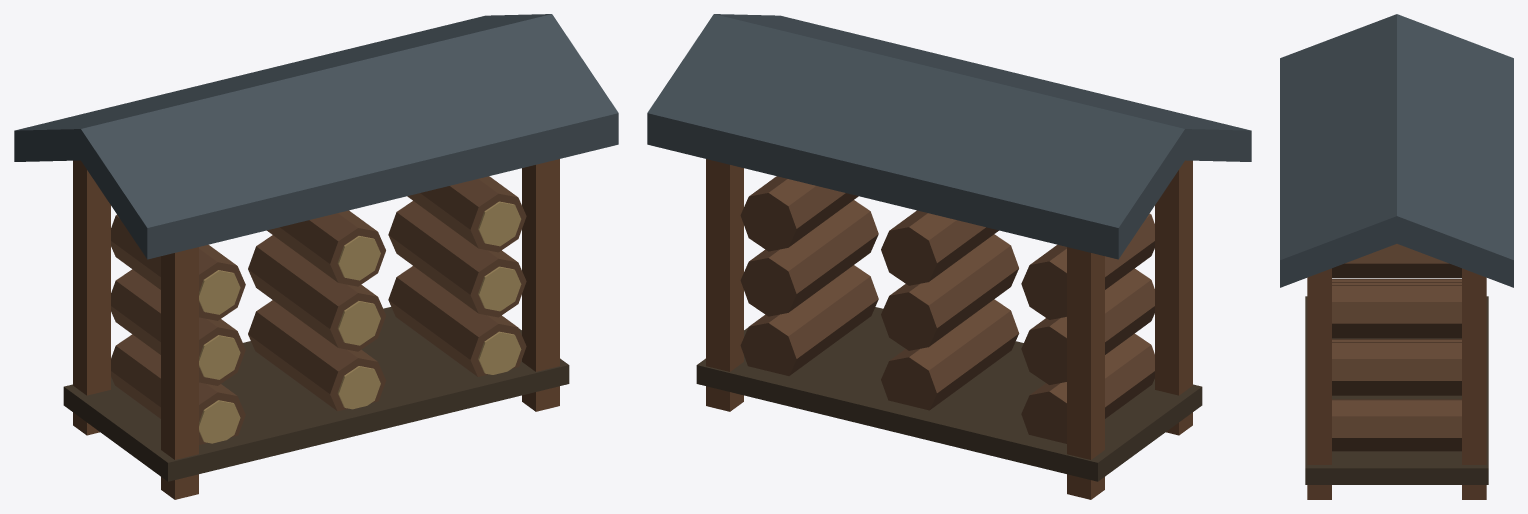
File: Prop_Daily_FirewoodRack_001_LOD1.glb
3 views of the same model, side by side, from view 1: azimuth 30°, elevation 25°; view 2: azimuth 150°, elevation 25°; view 3: azimuth 270°, elevation 25° (orthographic). The views are drawn at different scales.
Parts seen in each view (by area): view 1: Prop_Daily_FirewoodRack_001_LOD1; view 2: Prop_Daily_FirewoodRack_001_LOD1; view 3: Prop_Daily_FirewoodRack_001_LOD1.
Boxes of the visible parts, x1,y1,x2,y2 form: Prop_Daily_FirewoodRack_001_LOD1: (14, 14, 618, 499); Prop_Daily_FirewoodRack_001_LOD1: (647, 14, 1251, 499); Prop_Daily_FirewoodRack_001_LOD1: (1280, 14, 1513, 499).
Size of the model in its own units: 2.35 by 1.64 by 1.15.
